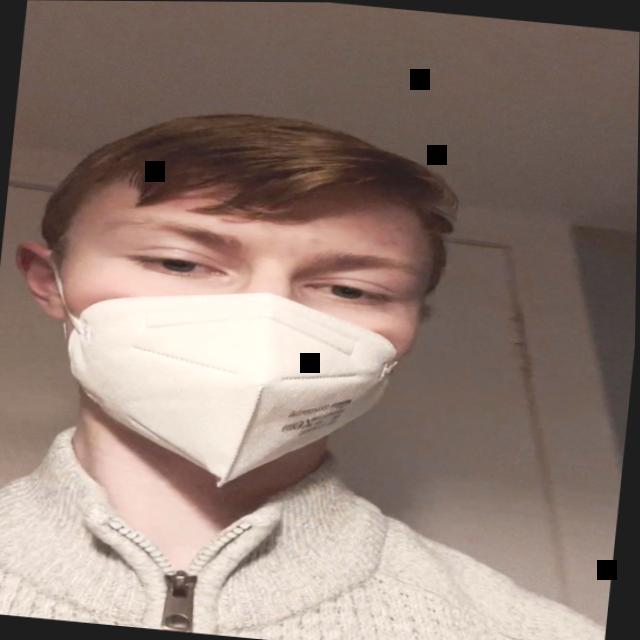Mask: (59, 131, 451, 500)
